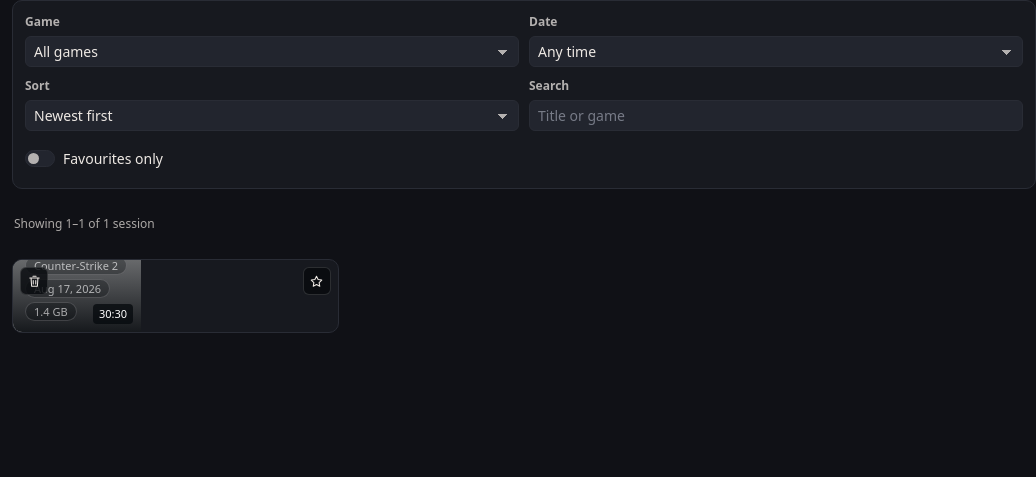
Test: SessionsView empty states › explains a filtered-out catalogue separately
Type "no such title" into the field labelled "Search".
click(776, 116); type("no such title")  # box [529,100,1023,131]
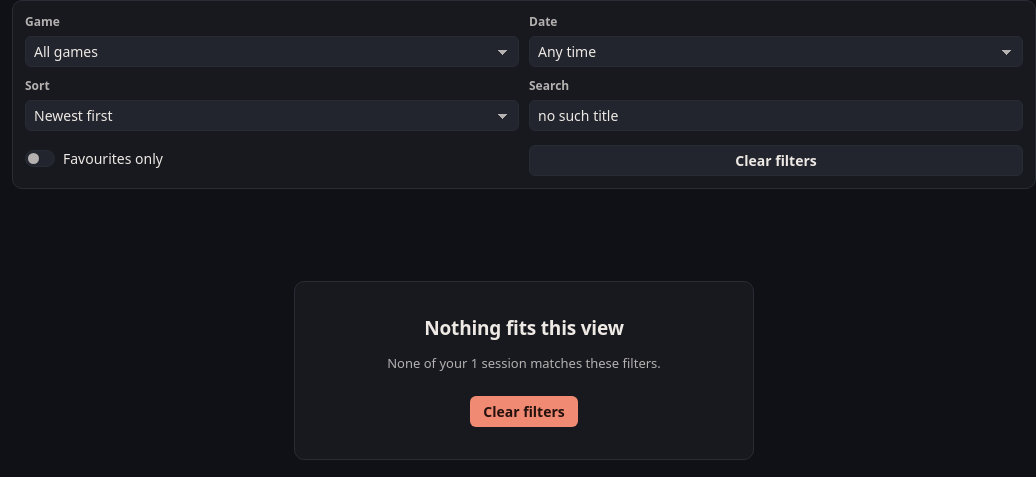
expect the element with test id "sessions-empty-filtered" is shown: met, box [294,281,754,460]
